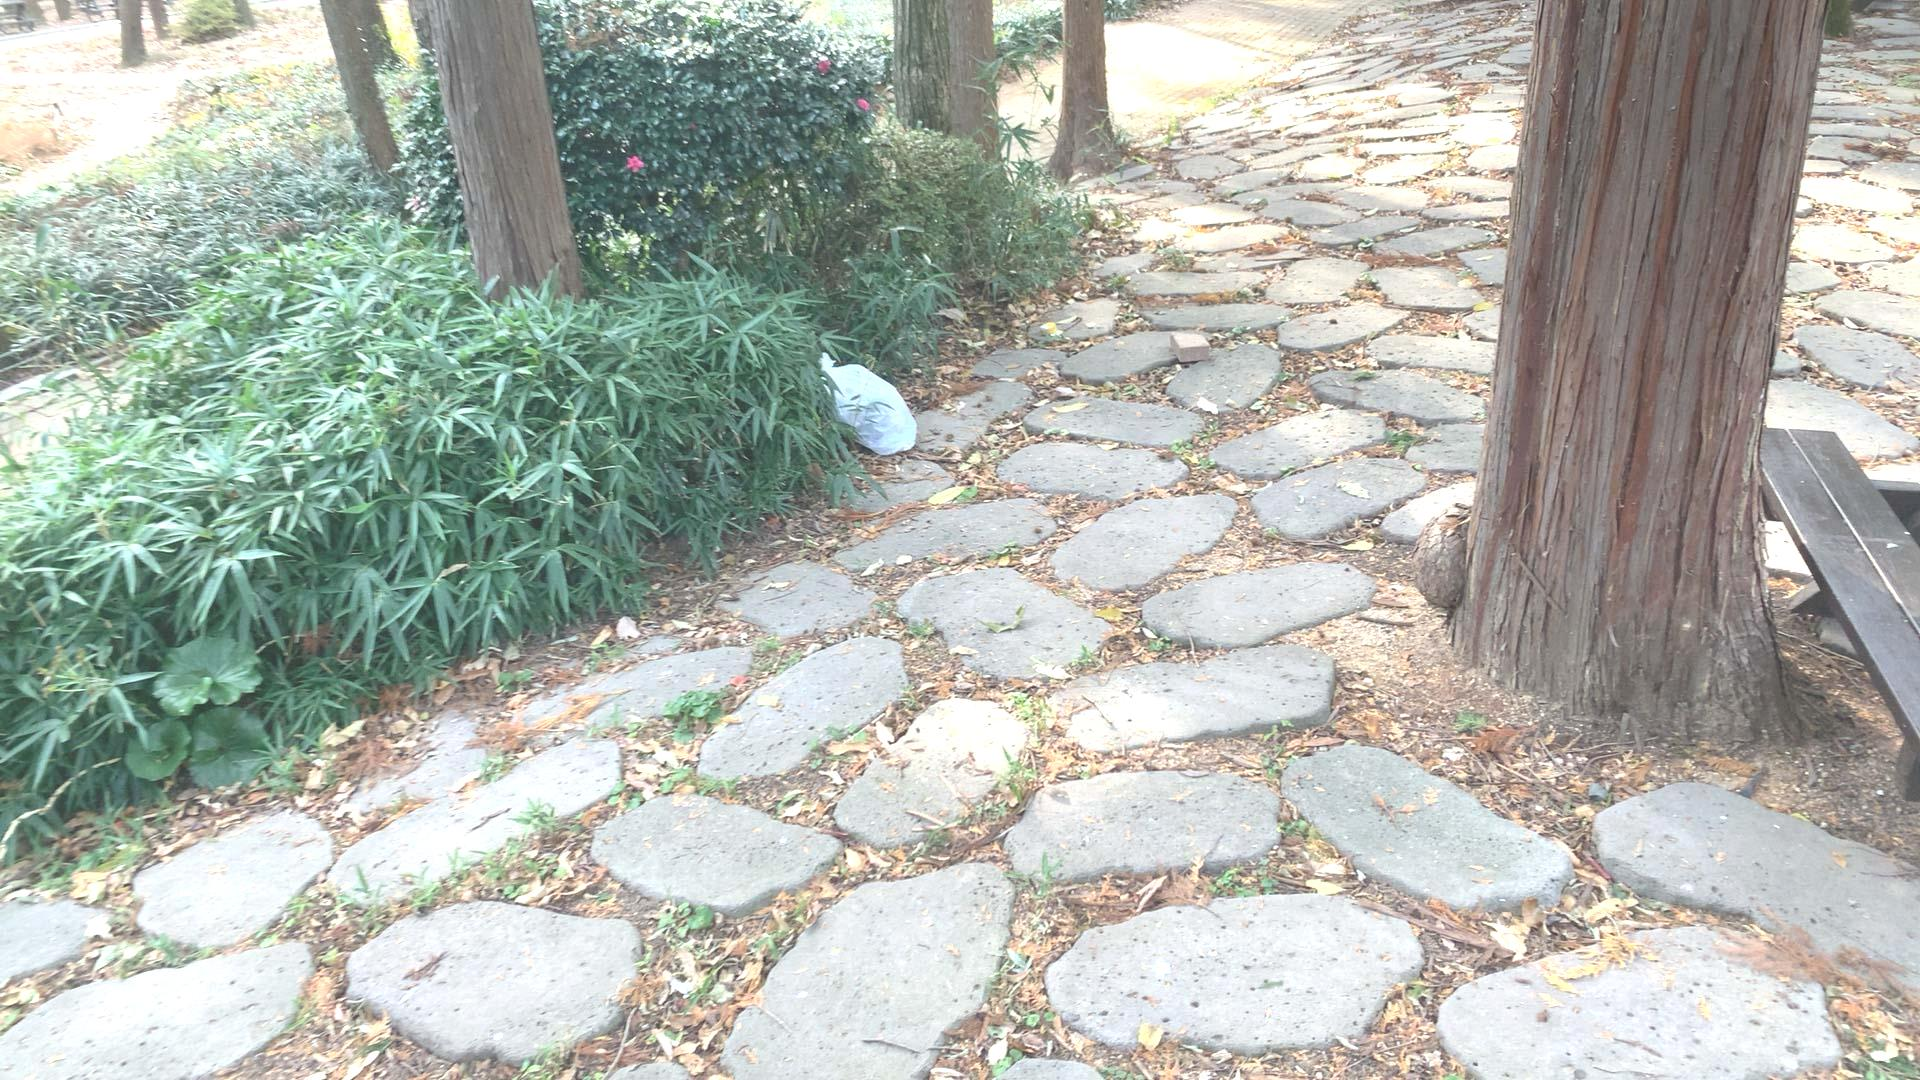white_bag: (808, 348, 926, 464)
